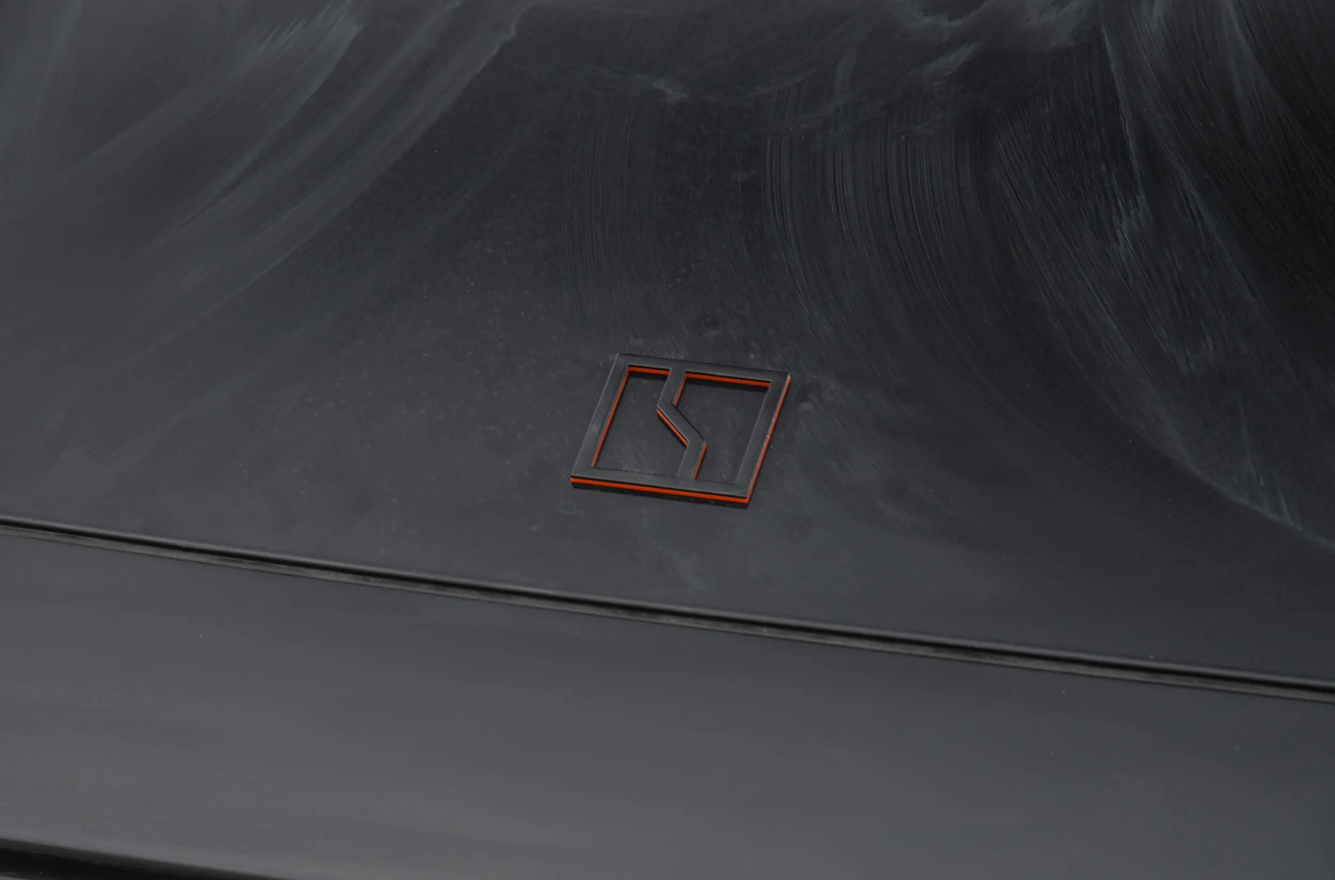ZEEKR: (571, 355, 789, 502)
